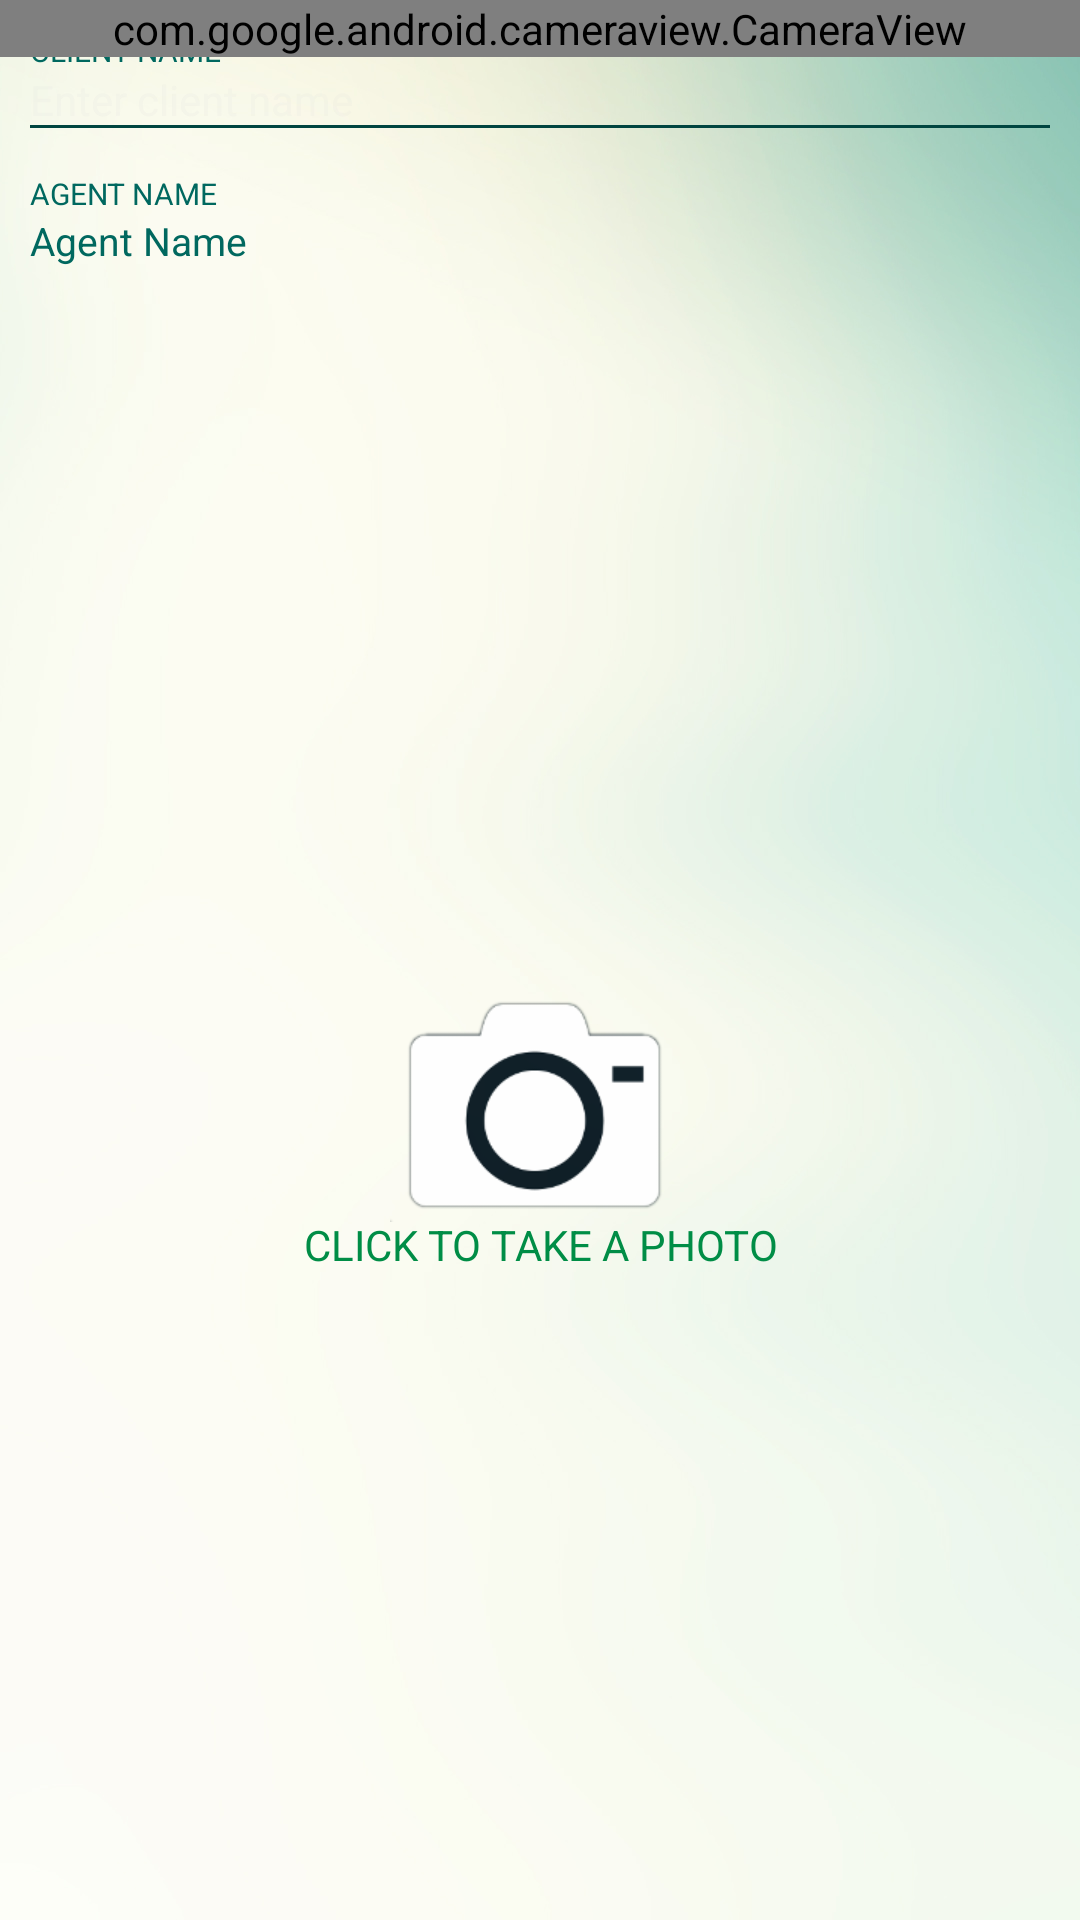

Named icons in this screenshot (1080×1920) and their centers, (x,y):
camera: (540,1111)
